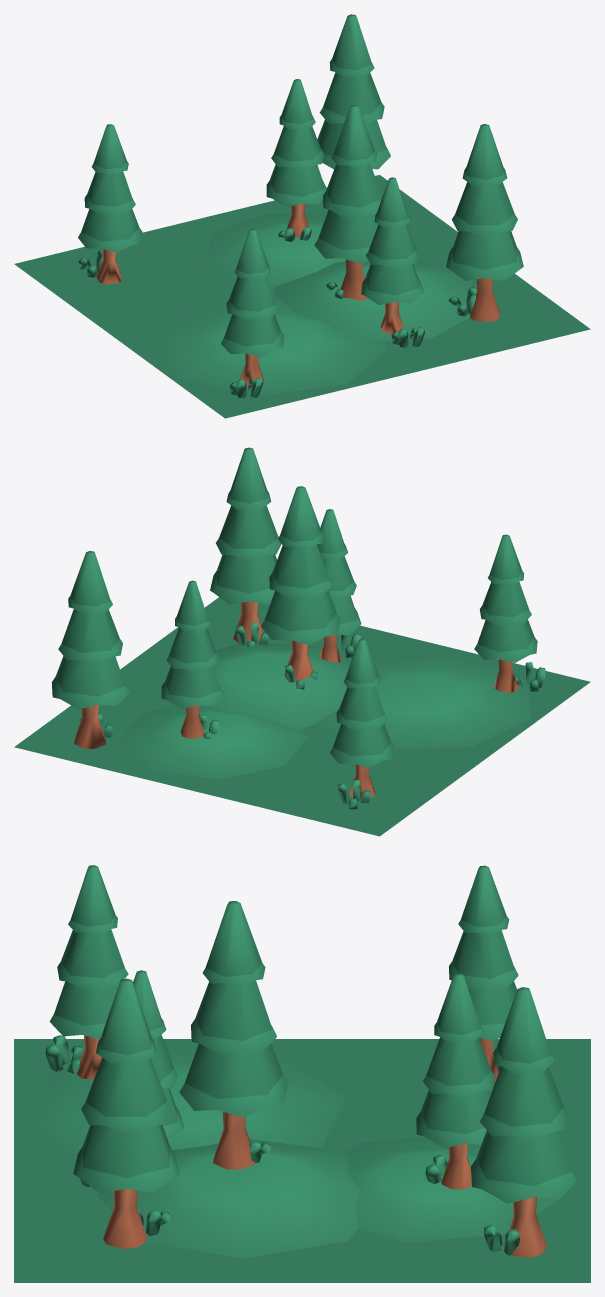
Rendered from decoration-forest.glb.
3 views of the same model, one above another, from view 1: azimuth 30°, elevation 25°; view 2: azimuth 150°, elevation 25°; view 3: azimuth 270°, elevation 25° (orthographic). The views are drawn at different scales.
Parts seen in each view (by area): view 1: decoration-forest, bump.1, tree.3, bump.2, tree.4, tree.7, tree.2, tree.6, tree.1, tree.5, bump.3; view 2: decoration-forest, bump.1, bump.3, tree.6, bump.2, tree.4, tree.3, tree.5, tree.1, tree.7, tree.2; view 3: decoration-forest, bump.2, tree.3, tree.4, tree.6, bump.3, bump.1, tree.5, tree.1, tree.7, tree.2.
Part boxes in pixels (<box>): decoration-forest: <box>14,175,590,418</box>; bump.1: <box>151,296,387,395</box>; tree.3: <box>446,124,523,321</box>; bump.2: <box>274,259,473,341</box>; tree.4: <box>314,105,382,300</box>; tree.7: <box>78,124,142,284</box>; tree.2: <box>361,177,423,334</box>; tree.6: <box>317,14,390,169</box>; tree.1: <box>221,229,283,387</box>; tree.5: <box>266,79,326,237</box>; bump.3: <box>206,213,345,288</box>; decoration-forest: <box>14,597,590,836</box>; bump.1: <box>315,654,531,748</box>; bump.3: <box>118,705,307,779</box>; tree.6: <box>51,551,129,748</box>; bump.2: <box>199,643,350,728</box>; tree.4: <box>261,486,340,682</box>; tree.3: <box>210,447,281,643</box>; tree.5: <box>161,580,223,738</box>; tree.1: <box>474,534,537,692</box>; tree.7: <box>330,639,394,799</box>; tree.2: <box>317,509,361,662</box>; decoration-forest: <box>14,1035,590,1282</box>; bump.2: <box>97,1139,359,1258</box>; tree.3: <box>73,978,179,1248</box>; tree.4: <box>179,901,288,1169</box>; tree.6: <box>471,987,576,1257</box>; bump.3: <box>346,1137,560,1242</box>; bump.1: <box>28,1044,345,1155</box>; tree.5: <box>416,973,494,1189</box>; tree.1: <box>49,865,128,1079</box>; tree.7: <box>449,865,518,1082</box>; tree.2: <box>133,970,184,1141</box>.
Bounding box in the file's own units: 10 × 5.26 × 10.
1 material, 1 textured.
